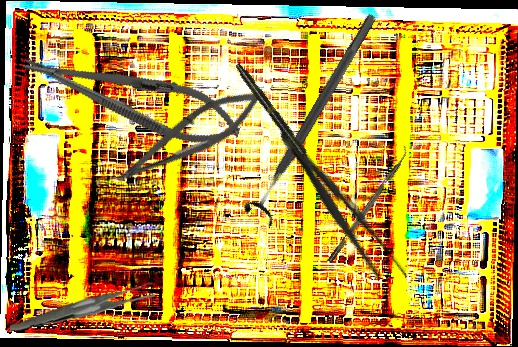Chopper: (321, 144, 413, 264)
Dressing Forceps: (268, 120, 413, 293), (9, 274, 156, 339)
Fixation Ring: (238, 6, 390, 229)
Handpiece: (232, 61, 319, 173)
Micro Scissor: (108, 72, 273, 203)
Needle Holder: (15, 34, 249, 159)
